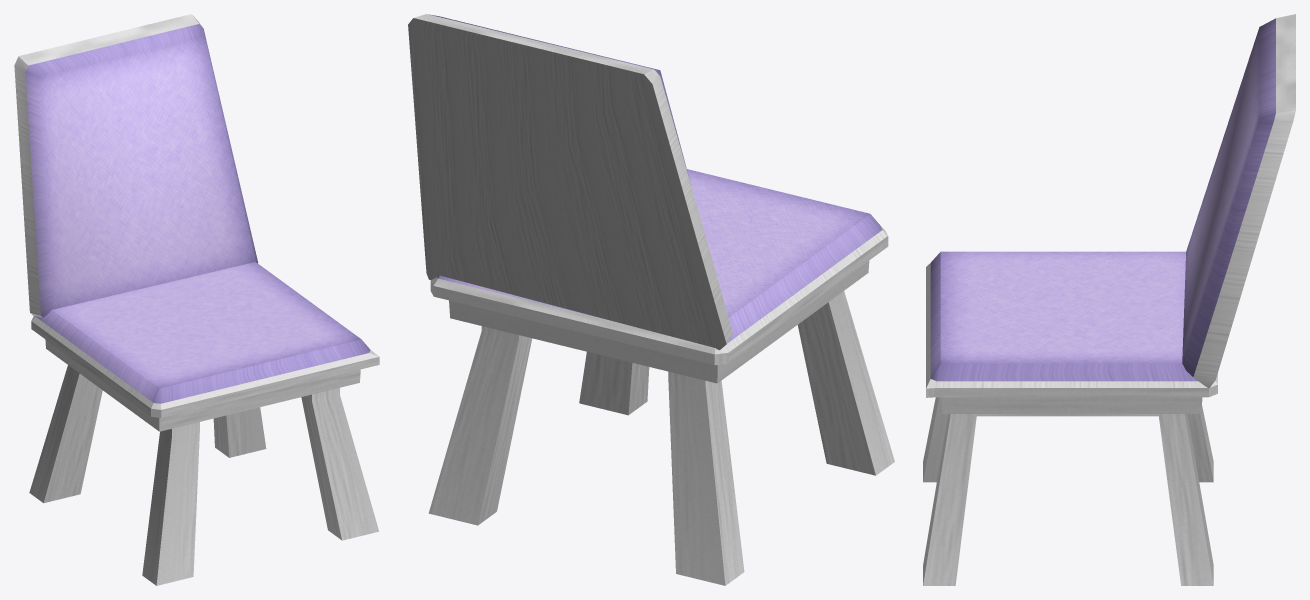
The model's file is Dining_Room_Chair_G_2.FBX.
3 views of the same model, side by side, from view 1: azimuth 30°, elevation 25°; view 2: azimuth 150°, elevation 25°; view 3: azimuth 270°, elevation 25° (orthographic). The views are drawn at different scales.
Visible parts, largest first — view 1: Dining_Chair; view 2: Dining_Chair; view 3: Dining_Chair.
Part boxes in pixels (<box>): Dining_Chair: <box>14,14,379,585</box>; Dining_Chair: <box>408,14,894,585</box>; Dining_Chair: <box>923,14,1295,585</box>.
Bounding box in the file's own units: 121 × 208 × 152.
